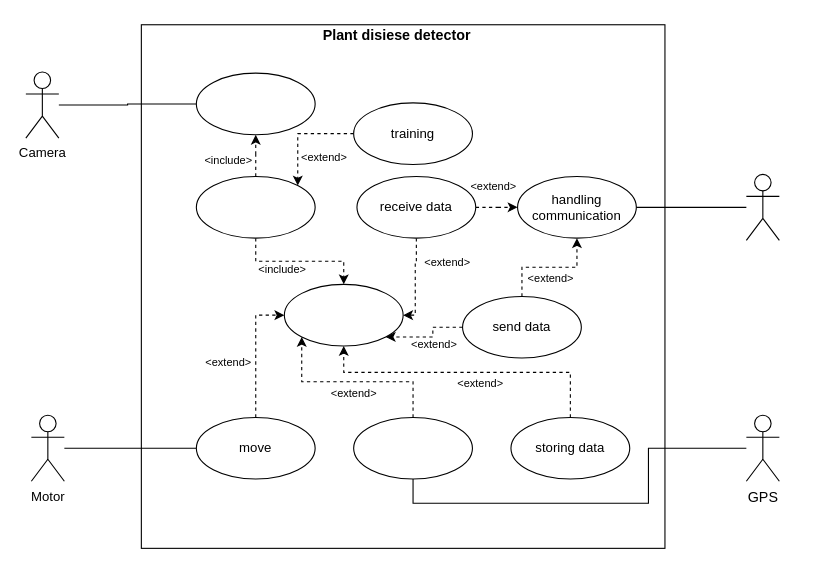
Image size: 813x568. Some labels were removed from this diagram. Here are the shapes that lost their labels. From the top down, the box of each, then its label:
(195, 72, 315, 135): collect input
(195, 175, 315, 238): detect disease
(745, 173, 779, 240): tranciever
(283, 283, 403, 346): processing data
(353, 416, 472, 479): localizing
